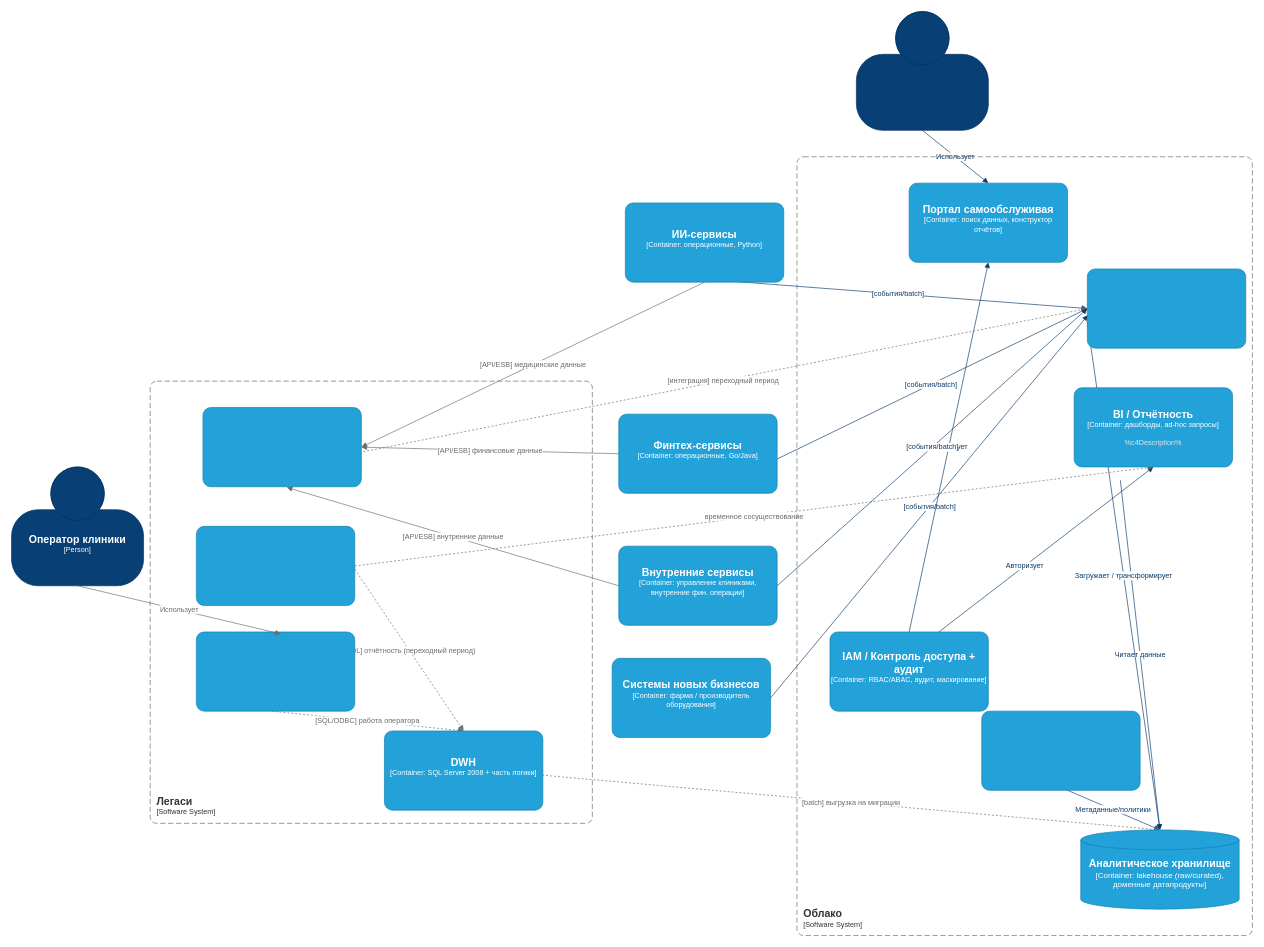
Image size: 1264x947. Some labels were removed from this diagram. The centre of each missing label's shape, as x and y in pixels:
BI [Container: Power BI + кастомизации]: the point at 275,566
ESB [Container: Apache Camel]: the point at 281,447
Бизнес-пользователь [аналитик / менеджер]: the point at 922,70
Загрузка / Интеграция [Container: batch + события]: the point at 1166,308
Каталог данных + Governance [Container: метаданные, политики, линейность]: the point at 1060,750
Клиентский UI [Container: PowerBuilder]: the point at 275,671
